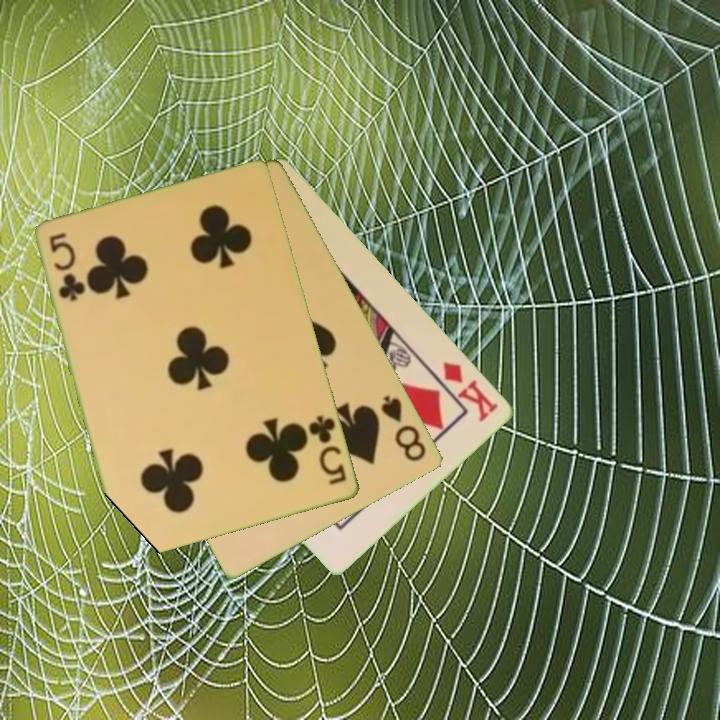5c: (305, 412, 350, 488), (46, 229, 87, 305)
8s: (378, 391, 430, 465)
Kd: (439, 358, 502, 425)
